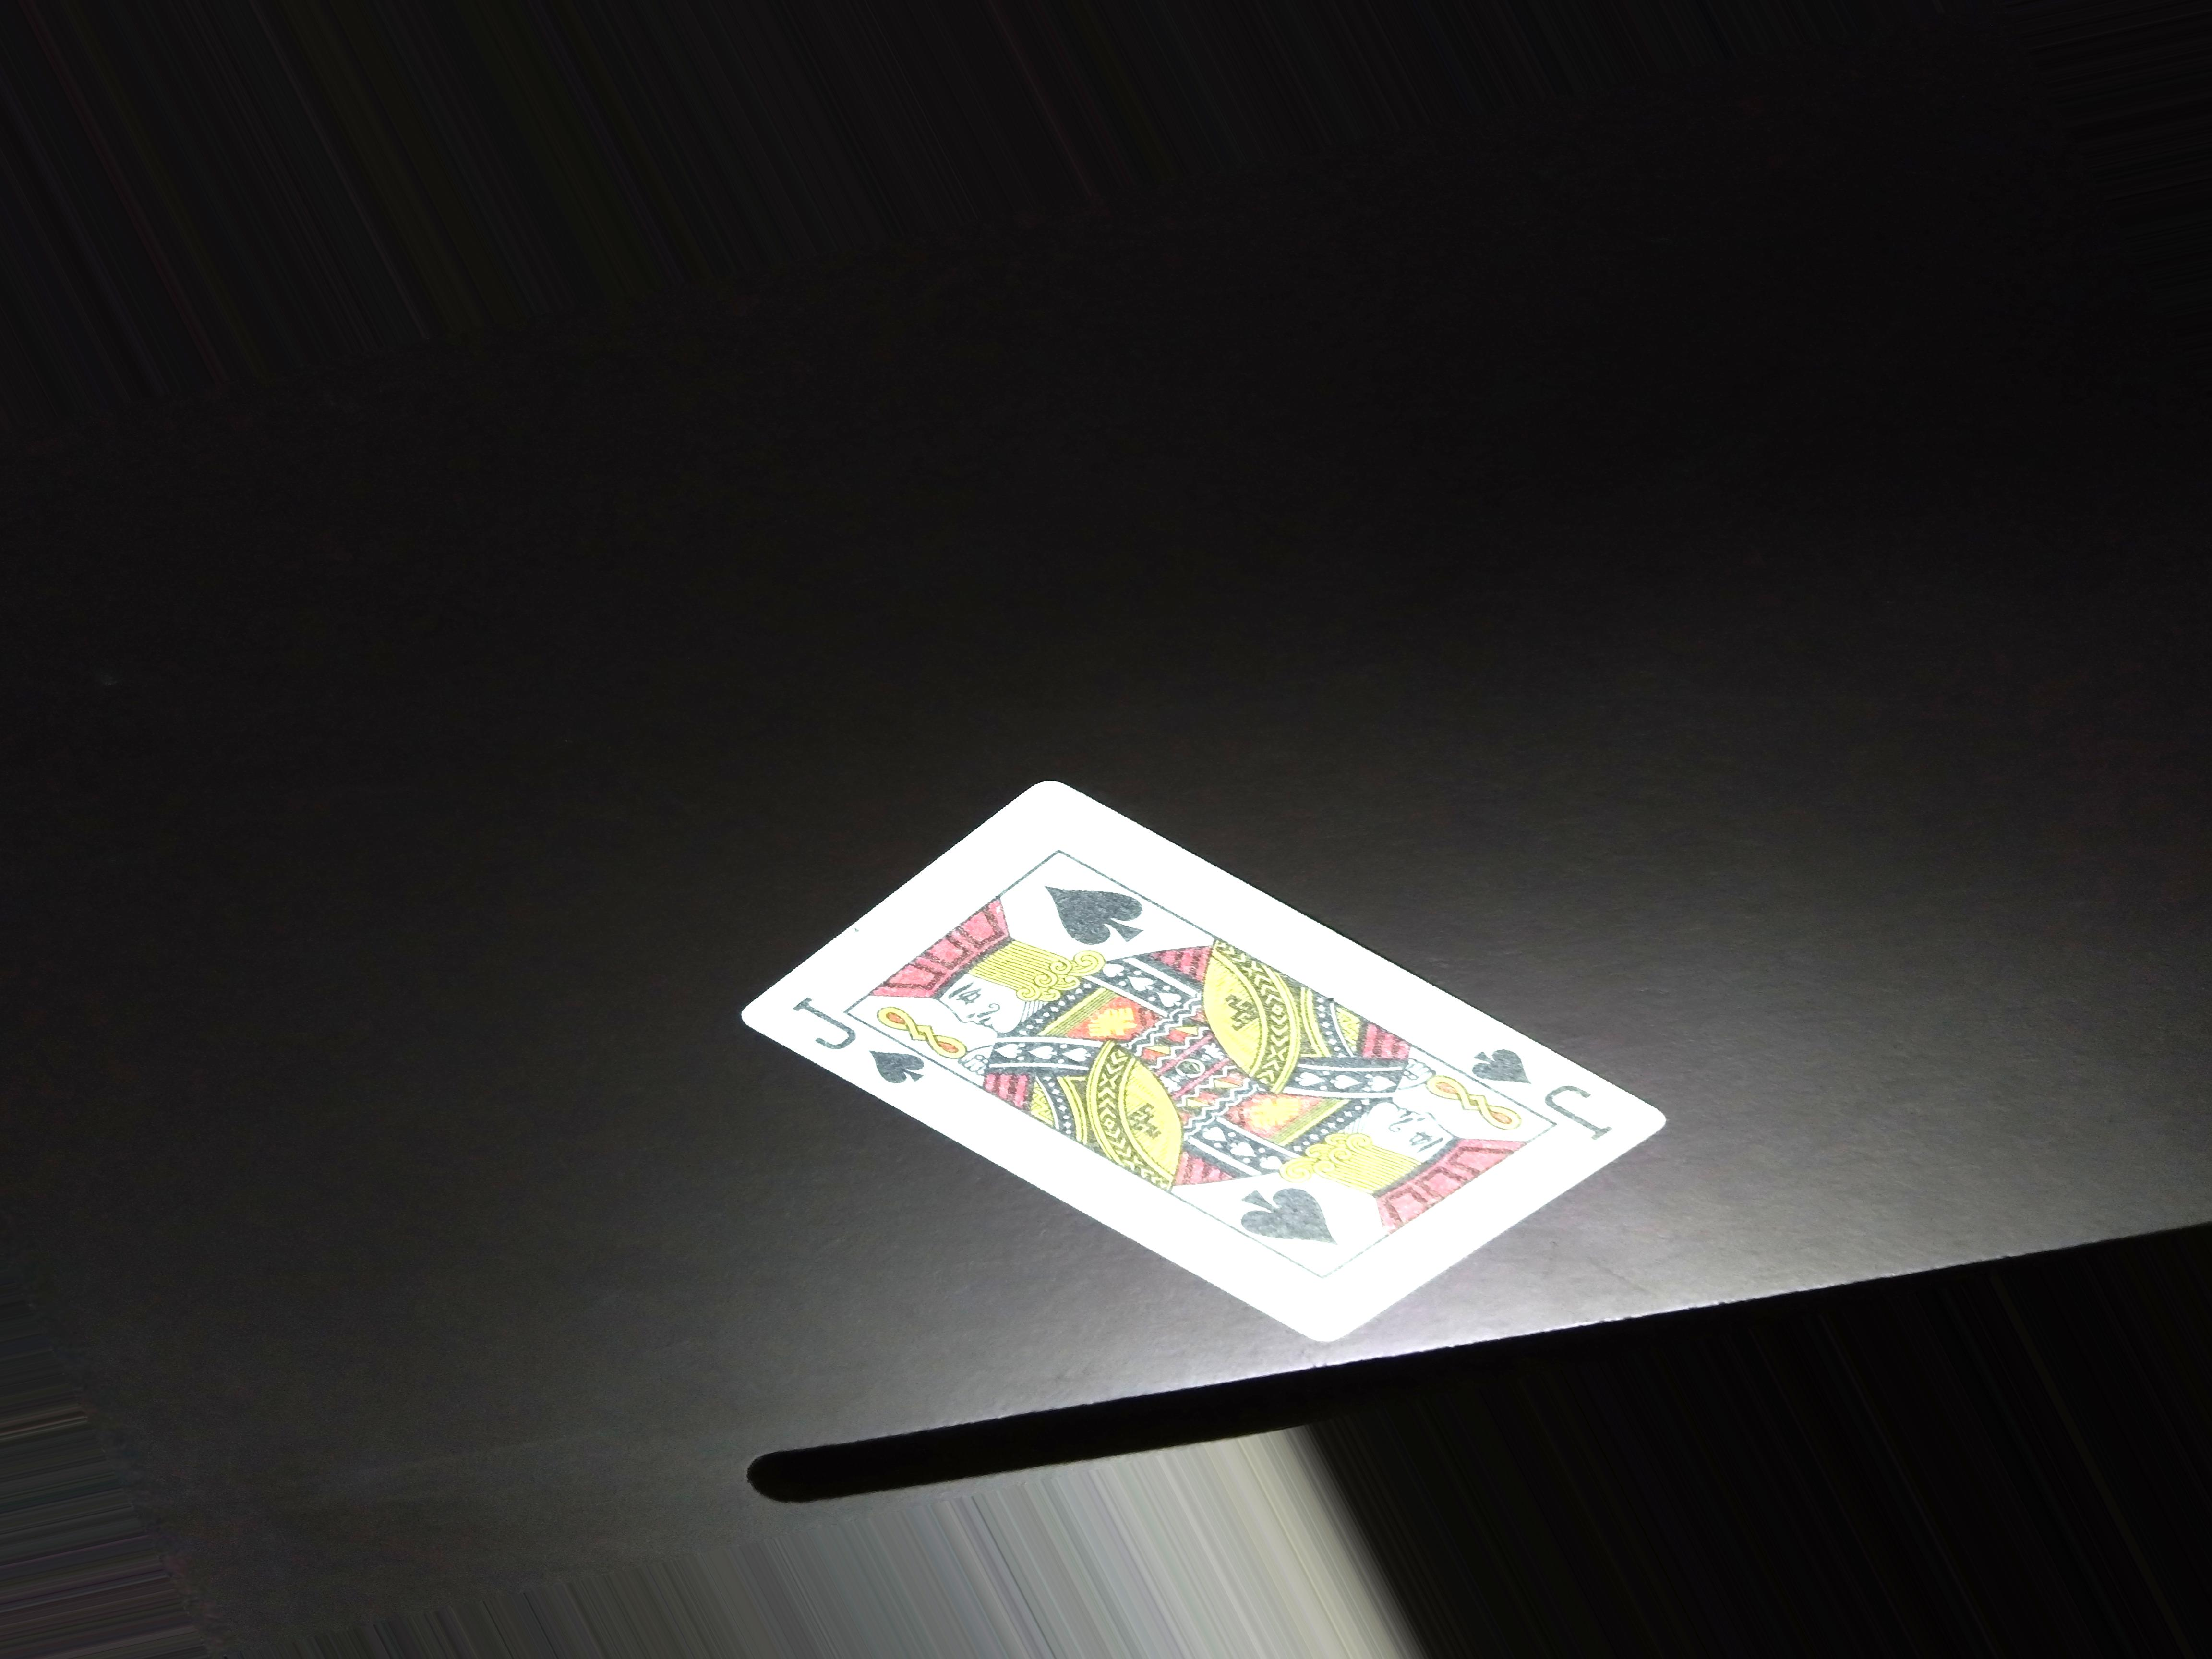JS: (770, 999, 918, 1086)
